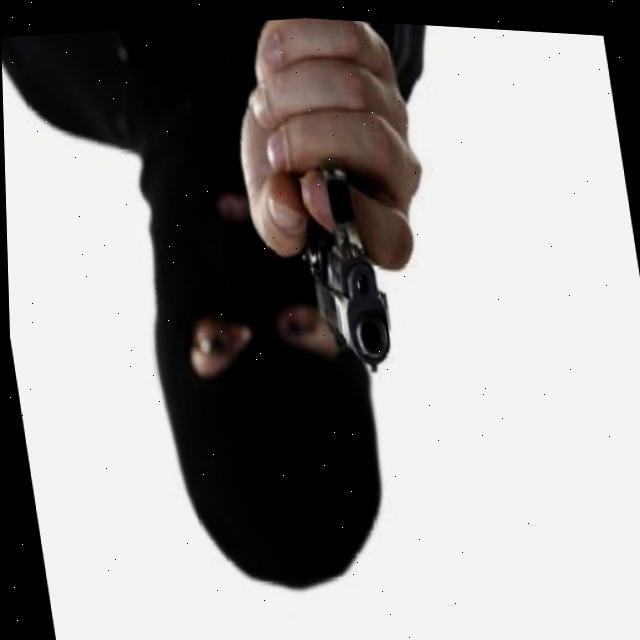gun: (280, 148, 395, 380)
